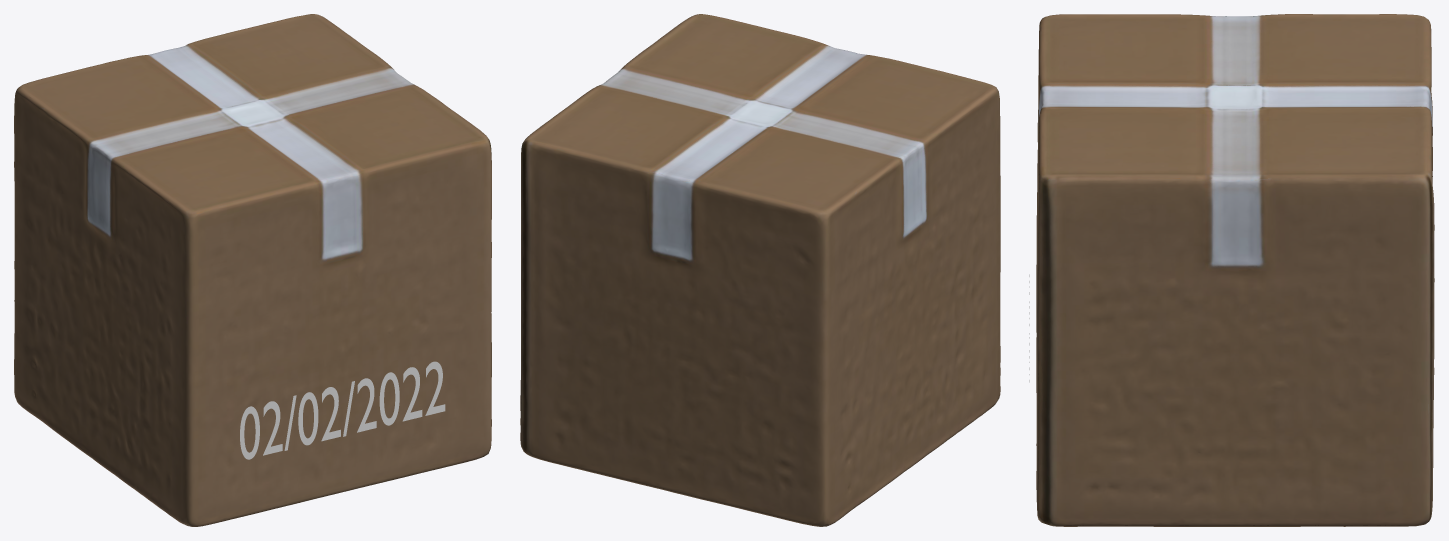
3 renders of one model, left to right at view 1: azimuth 30°, elevation 25°; view 2: azimuth 150°, elevation 25°; view 3: azimuth 270°, elevation 25°, orthographic. The views are drawn at different scales.
Visible parts, largest first — view 1: high_poly, Text; view 2: high_poly; view 3: high_poly.
Boxes of the visible parts, x1,y1,x2,y2 form: high_poly: (14, 14, 491, 526); Text: (240, 361, 445, 459); high_poly: (520, 14, 1000, 526); high_poly: (1036, 14, 1434, 526).
Size of the model in its own units: 0.996 by 0.9796 by 1.02.
Materials: 1 (1 with a texture image).
